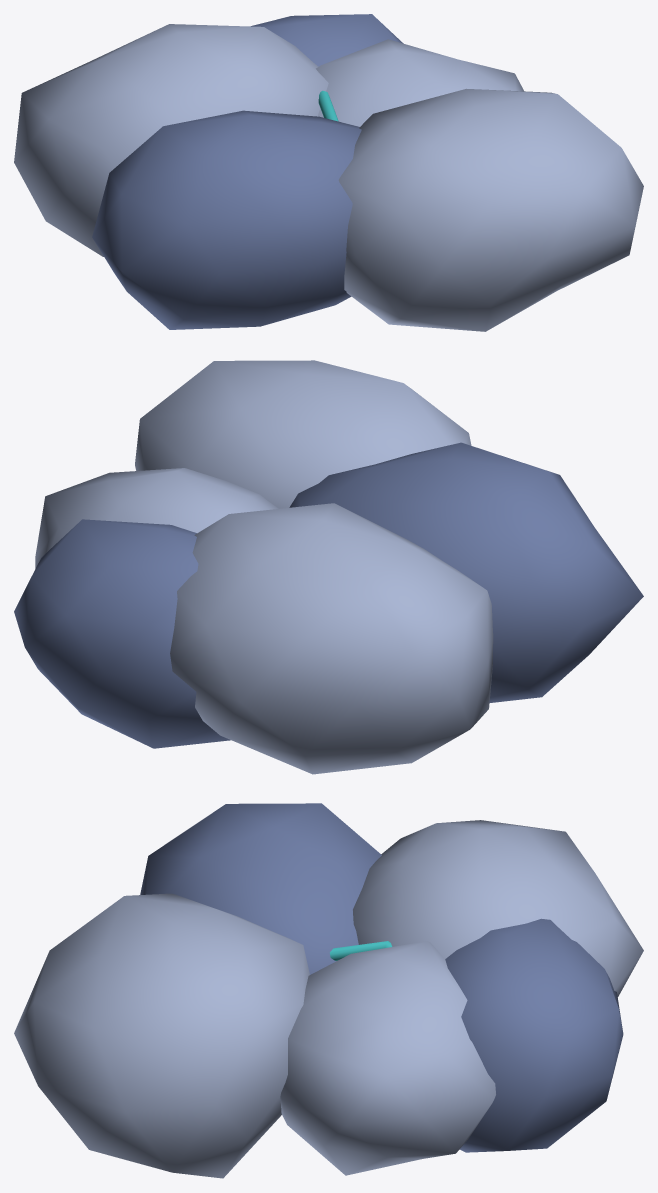
Rendered from r006_reef_rock_family_rock_02.glb.
3 views of the same model, one above another, from view 1: azimuth 30°, elevation 25°; view 2: azimuth 150°, elevation 25°; view 3: azimuth 270°, elevation 25° (orthographic). The views are drawn at different scales.
Parts seen in each view (by area): view 1: r006_reef_rock_family_rock_02.001; view 2: r006_reef_rock_family_rock_02.001; view 3: r006_reef_rock_family_rock_02.001.
Boxes of the visible parts, x1=… form: r006_reef_rock_family_rock_02.001: x1=14, y1=14, x2=643, y2=331; r006_reef_rock_family_rock_02.001: x1=14, y1=360, x2=643, y2=774; r006_reef_rock_family_rock_02.001: x1=14, y1=803, x2=643, y2=1178.
Size of the model in its own units: 2.92 by 1.28 by 3.04.
